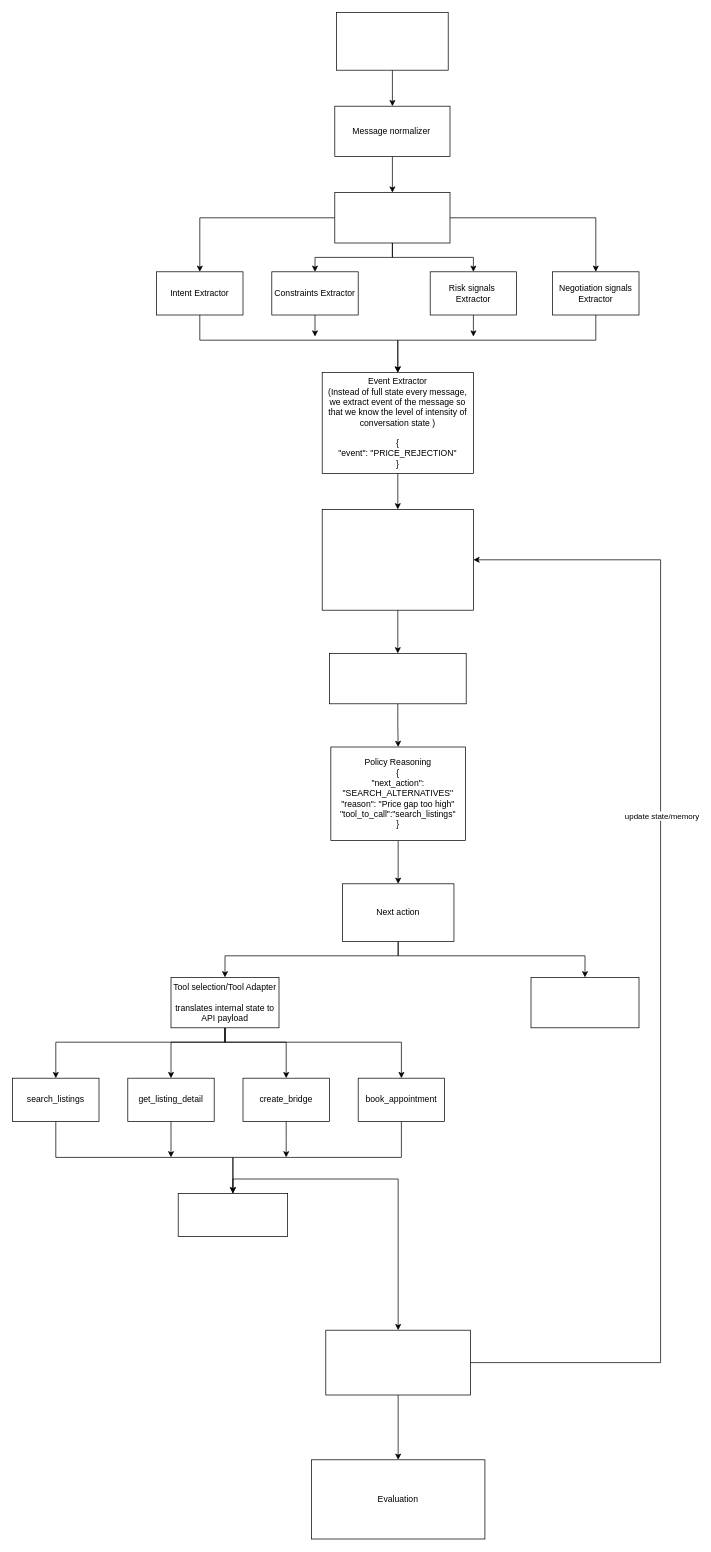
Some shapes in this 711 by 1552 pixel diagram are drawn without their labels. Here are the shapes that lost their labels. From the top down, the centre of each, then its label:
(x=392, y=41): Chat messages (chat_history.jsonl)
(x=392, y=217): Information Extract
(x=397, y=559): Conversation State + Memory Store { "negotiation_status":"TENSE" }
(x=397, y=678): Decision Engine
(x=584, y=1002): Escalation (due to legal/scam/repeated failed nego/ risks)
(x=232, y=1215): Event Logger(tool calls + tool results)
(x=398, y=1362): Agent Response
